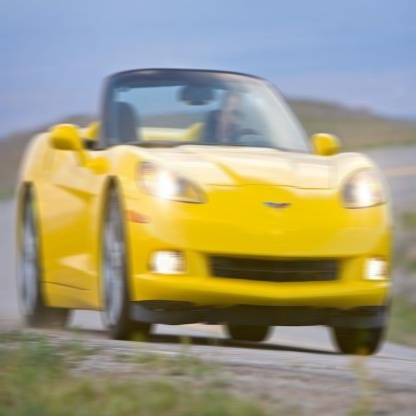Vehicle: (17, 65, 392, 349)
